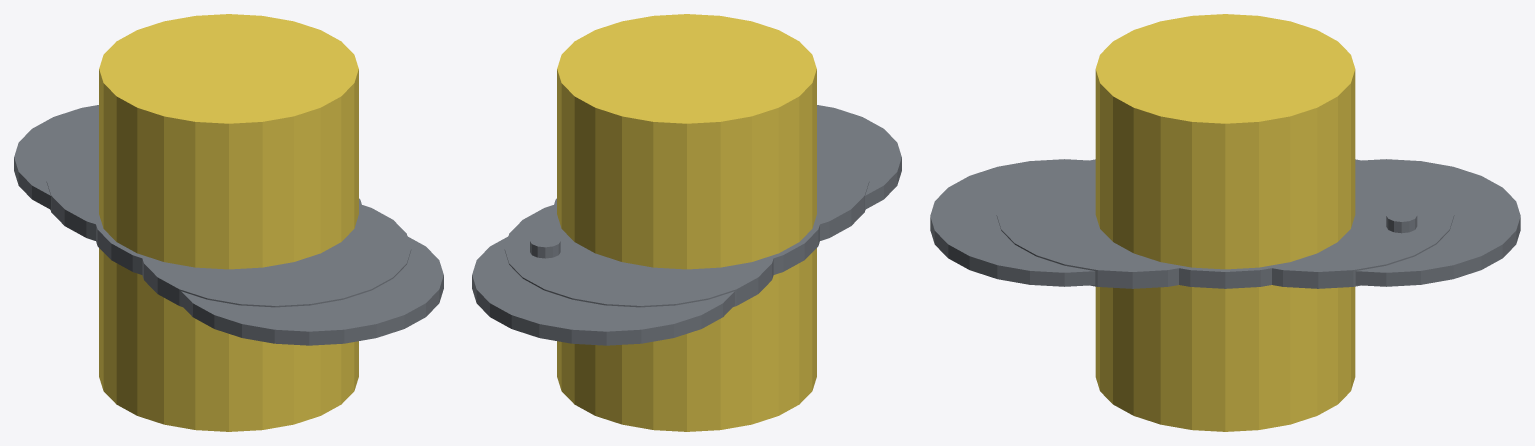
Rendered from prop_toxic_barrel.glb.
3 renders of one model, left to right at view 1: azimuth 30°, elevation 25°; view 2: azimuth 150°, elevation 25°; view 3: azimuth 270°, elevation 25°, orthographic.
Parts seen in each view (by area): view 1: BarrelBody, Cylinder, Cylinder.003, Cylinder.004, Cylinder.002, Cylinder.001; view 2: BarrelBody, Cylinder.002, Cylinder.004, Cylinder.003, Cylinder, Cylinder.001, Cylinder.005; view 3: BarrelBody, Cylinder, Cylinder.002, Cylinder.003, Cylinder.004, Cylinder.001, Cylinder.005.
Boxes of the visible parts, x1=… form: BarrelBody: x1=99, y1=14, x2=358, y2=431; Cylinder: x1=141, y1=204, x2=411, y2=307; Cylinder.003: x1=181, y1=236, x2=443, y2=345; Cylinder.004: x1=14, y1=105, x2=98, y2=209; Cylinder.002: x1=46, y1=136, x2=98, y2=240; Cylinder.001: x1=93, y1=198, x2=364, y2=274; BarrelBody: x1=557, y1=14, x2=816, y2=431; Cylinder.002: x1=504, y1=204, x2=774, y2=307; Cylinder.004: x1=472, y1=236, x2=734, y2=345; Cylinder.003: x1=817, y1=105, x2=901, y2=209; Cylinder: x1=817, y1=136, x2=869, y2=240; Cylinder.001: x1=551, y1=198, x2=822, y2=274; Cylinder.005: x1=530, y1=234, x2=560, y2=258; BarrelBody: x1=1095, y1=14, x2=1355, y2=431; Cylinder: x1=996, y1=159, x2=1186, y2=288; Cylinder.002: x1=1266, y1=159, x2=1454, y2=288; Cylinder.003: x1=930, y1=159, x2=1095, y2=286; Cylinder.004: x1=1355, y1=159, x2=1520, y2=286; Cylinder.001: x1=1093, y1=199, x2=1357, y2=288; Cylinder.005: x1=1386, y1=209, x2=1417, y2=233.
Size of the model in its own units: 0.88 by 1.1 by 1.91.
